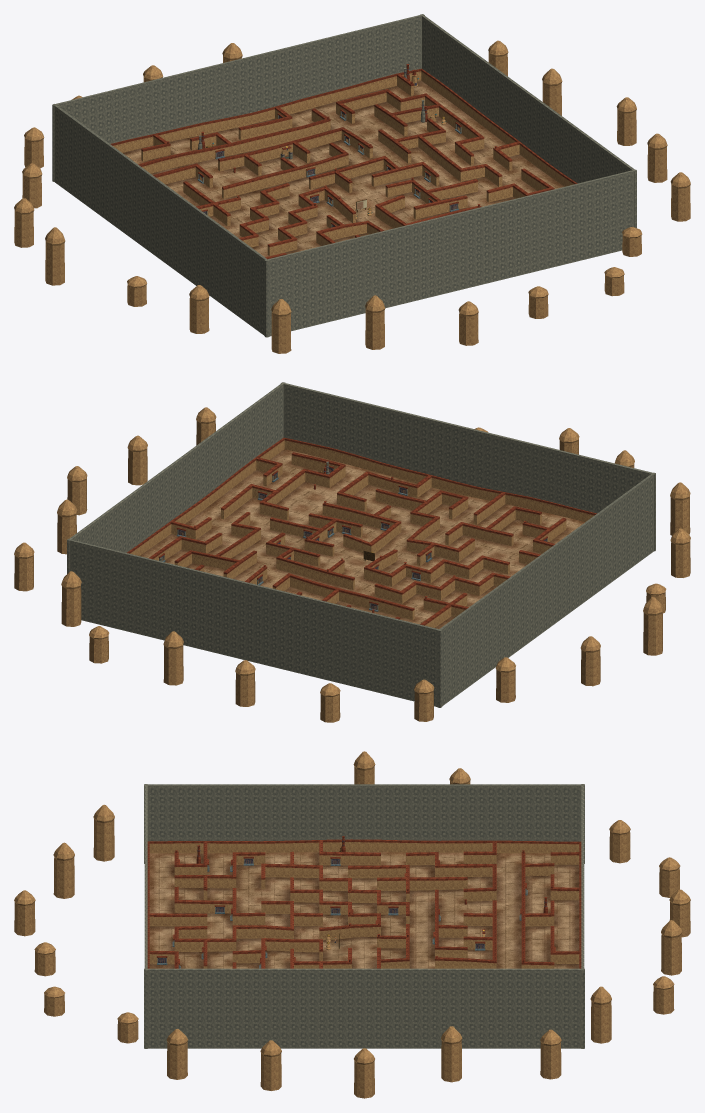
File: SaffronKilns-f69348f8ec17.glb
The picture shows the model from 3 angles, top to bottom: view 1: azimuth 30°, elevation 25°; view 2: azimuth 150°, elevation 25°; view 3: azimuth 270°, elevation 25°; orthographic projection. The views are drawn at different scales.
Parts seen in each view (by area): view 1: C_Solids, Rim, Terrain, Horizon, Set; view 2: C_Solids, Rim, Terrain, Horizon, Set; view 3: C_Solids, Rim, Terrain, Horizon, Set.
Part boxes in pixels (x1,y1,x2,y2): C_Solids: [52, 14, 636, 337]; Rim: [110, 68, 577, 259]; Terrain: [123, 80, 564, 257]; Horizon: [14, 40, 690, 353]; Set: [167, 64, 497, 227]; C_Solids: [67, 382, 655, 707]; Rim: [127, 437, 596, 627]; Terrain: [140, 449, 584, 628]; Horizon: [14, 407, 690, 722]; Set: [158, 461, 547, 613]; C_Solids: [144, 784, 584, 1048]; Rim: [147, 839, 581, 968]; Terrain: [149, 852, 579, 968]; Horizon: [14, 751, 690, 1098]; Set: [157, 836, 555, 968].
Size of the model in its own units: 194 by 24 by 187.
Materials: 18 (18 with a texture image).
